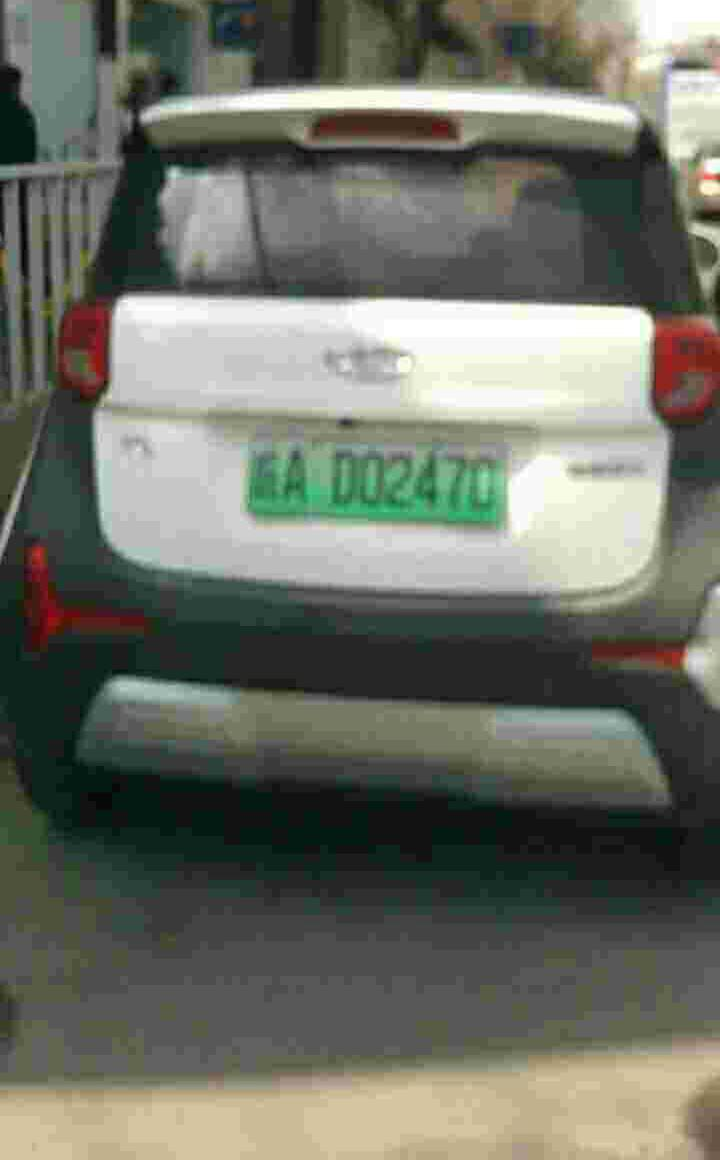car: (243, 423, 522, 528)
